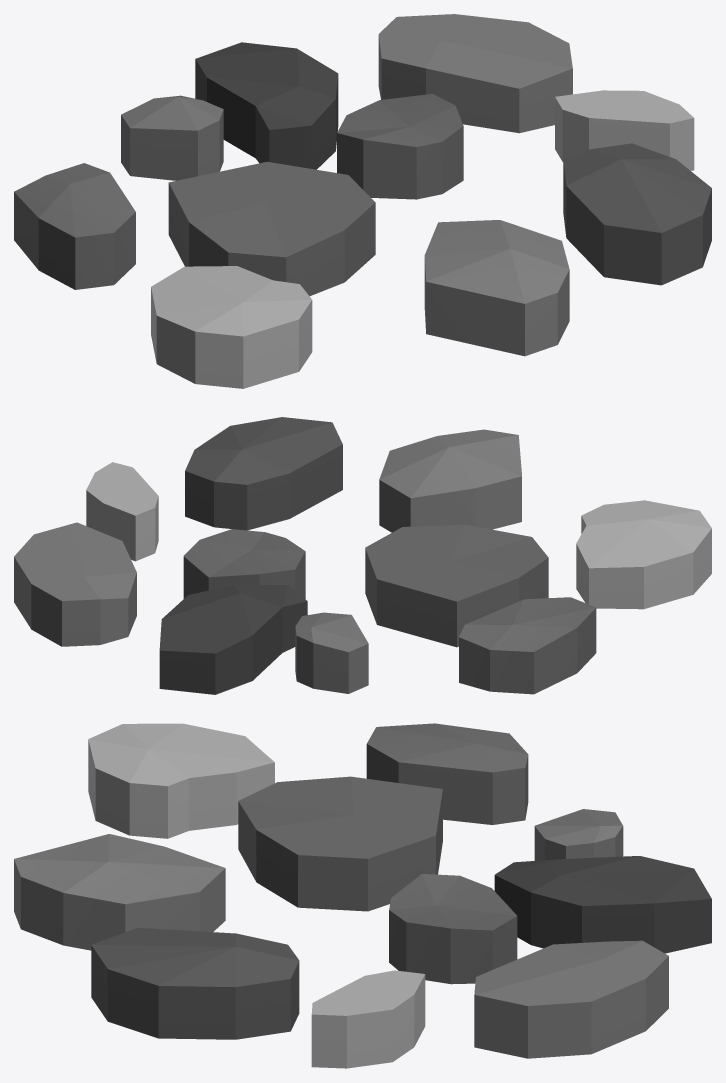
The model's file is Stone_B.fbx.
3 renders of one model, top to bottom at view 1: azimuth 30°, elevation 25°; view 2: azimuth 150°, elevation 25°; view 3: azimuth 270°, elevation 25°, orthographic. The views are drawn at different scales.
Parts seen in each view (by area): view 1: Stone_B; view 2: Stone_B; view 3: Stone_B.
Boxes of the visible parts, x1=… form: Stone_B: x1=14, y1=14, x2=711, y2=388; Stone_B: x1=14, y1=417, x2=711, y2=694; Stone_B: x1=14, y1=723, x2=711, y2=1068.
Size of the model in its own units: 217 by 22.57 by 216.
